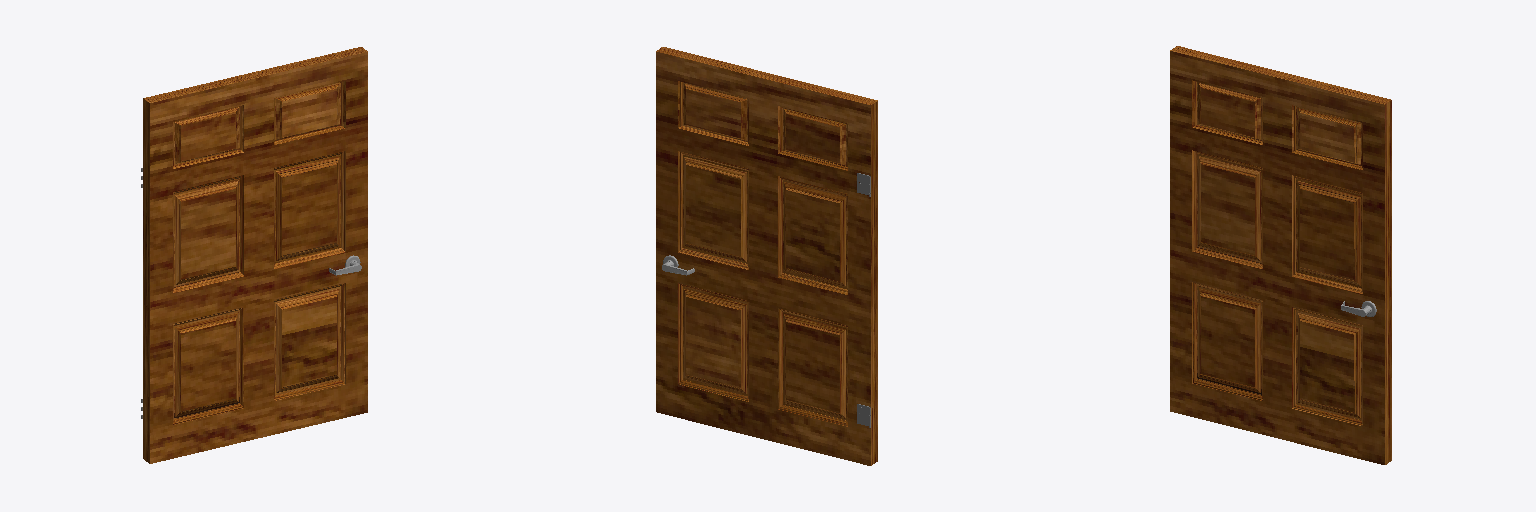
3 views of the same model, side by side, from view 1: azimuth 30°, elevation 25°; view 2: azimuth 150°, elevation 25°; view 3: azimuth 330°, elevation 25° (orthographic).
Parts seen in each view (by area): view 1: Door.001_Cube; view 2: Door.001_Cube; view 3: Door.001_Cube.
Boxes of the visible parts, <box> form: Door.001_Cube: <box>143,47,367,463</box>; Door.001_Cube: <box>656,47,877,465</box>; Door.001_Cube: <box>1170,46,1391,464</box>.
Size of the model in its own units: 1.16 by 1.84 by 0.1869.
4 materials, 2 textured.